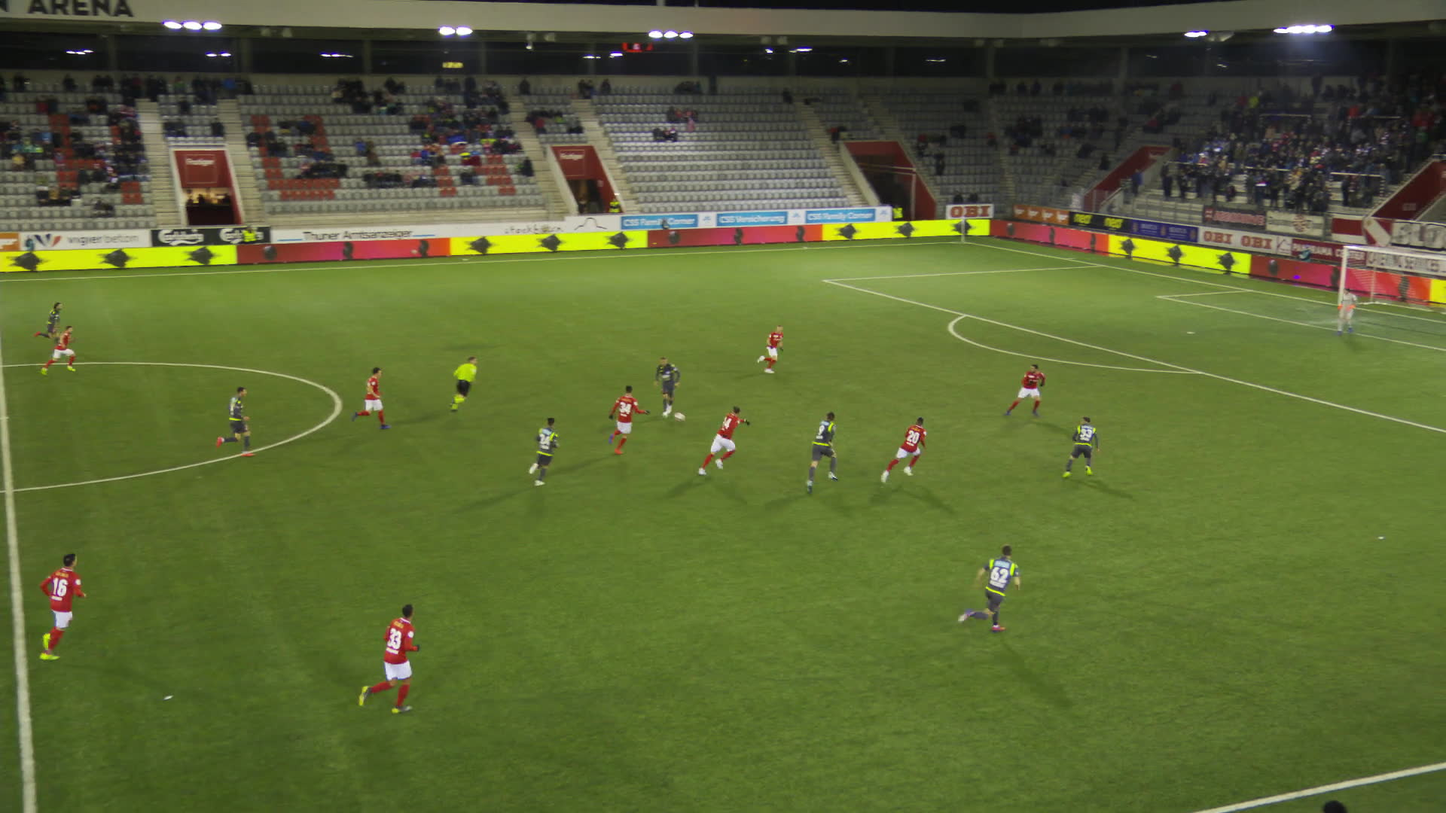ball: (675, 413, 685, 422)
player: (358, 601, 422, 717), (954, 543, 1021, 632), (38, 553, 85, 660), (697, 405, 749, 476), (607, 385, 649, 455), (883, 417, 926, 483), (216, 386, 255, 458), (350, 367, 391, 430), (1061, 414, 1100, 478), (1005, 363, 1047, 416), (810, 413, 837, 494), (532, 416, 564, 484), (40, 324, 76, 376), (653, 357, 680, 417), (32, 302, 66, 345), (756, 324, 785, 373), (1335, 288, 1359, 335)
referee: (449, 355, 477, 413)
